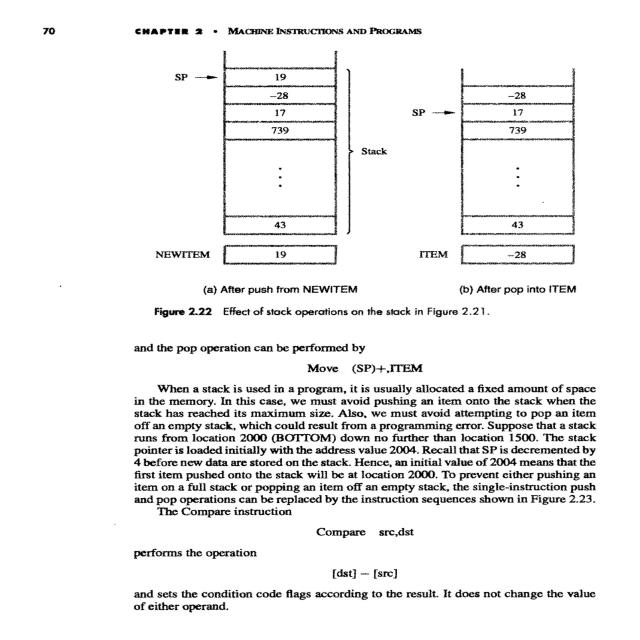diagram: (116, 45, 604, 326)
